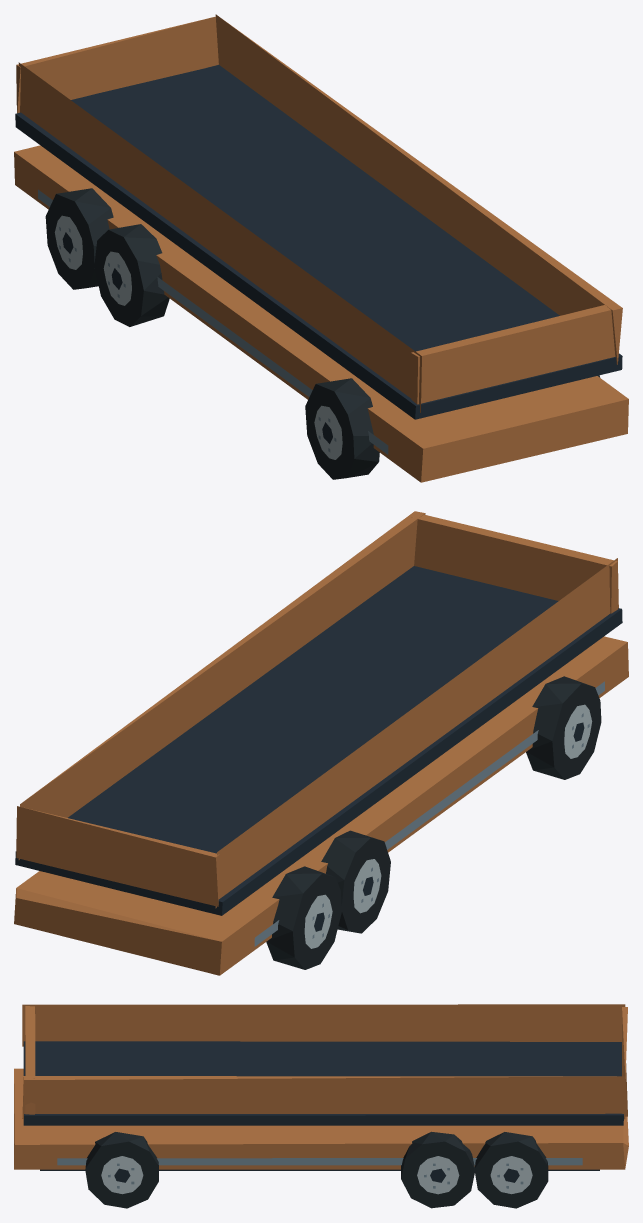
The model's file is road-trailer.lod2.glb.
The picture shows the model from 3 angles, top to bottom: view 1: azimuth 30°, elevation 25°; view 2: azimuth 150°, elevation 25°; view 3: azimuth 270°, elevation 25°; orthographic projection. The views are drawn at different scales.
Parts seen in each view (by area): view 1: road-trailer__bed, road-trailer__body, road-trailer__tailgate, road-trailer__wheel_steer_0_l, road-trailer__wheel_steer_2_l, road-trailer__wheel_steer_1_l; view 2: road-trailer__bed, road-trailer__body, road-trailer__tailgate, road-trailer__wheel_steer_0_l, road-trailer__wheel_steer_1_l, road-trailer__wheel_steer_2_l; view 3: road-trailer__bed, road-trailer__body, road-trailer__wheel_steer_2_r, road-trailer__wheel_steer_1_r, road-trailer__wheel_steer_0_r, road-trailer__tailgate.
Part boxes in pixels (x1,y1,x2,y2): road-trailer__bed: (15,14,622,419); road-trailer__body: (14,145,628,482); road-trailer__tailgate: (16,16,218,113); road-trailer__wheel_steer_0_l: (305,378,379,479); road-trailer__wheel_steer_2_l: (94,224,169,326); road-trailer__wheel_steer_1_l: (45,188,113,289); road-trailer__bed: (15,511,622,915); road-trailer__body: (14,636,628,975); road-trailer__tailgate: (16,806,219,906); road-trailer__wheel_steer_0_l: (526,676,601,779); road-trailer__wheel_steer_1_l: (266,866,341,969); road-trailer__wheel_steer_2_l: (321,830,390,933); road-trailer__bed: (22,1004,625,1125); road-trailer__body: (14,1068,628,1170); road-trailer__wheel_steer_2_r: (401,1131,474,1208); road-trailer__wheel_steer_1_r: (474,1132,548,1208); road-trailer__wheel_steer_0_r: (85,1132,158,1208); road-trailer__tailgate: (622,1007,627,1116).
Bounding box in the file's own units: 2.84 × 1.75 × 7.96.
